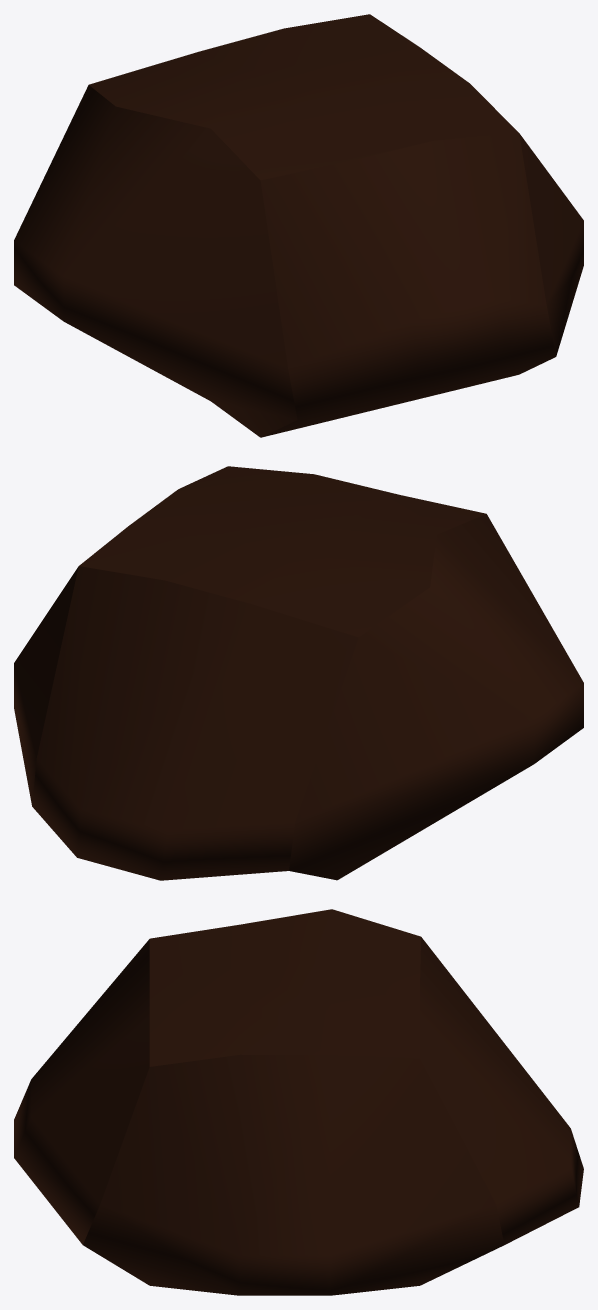
File: Pebble_rock2.dae
3 renders of one model, top to bottom at view 1: azimuth 30°, elevation 25°; view 2: azimuth 150°, elevation 25°; view 3: azimuth 270°, elevation 25°, orthographic. The views are drawn at different scales.
Visible parts, largest first — view 1: pasted__pCube3; view 2: pasted__pCube3; view 3: pasted__pCube3.
Boxes of the visible parts, x1,y1,x2,y2 form: pasted__pCube3: (14,14,583,437); pasted__pCube3: (14,466,583,880); pasted__pCube3: (14,909,583,1295).
Size of the model in its own units: 1.99 by 0.9964 by 2.08.
